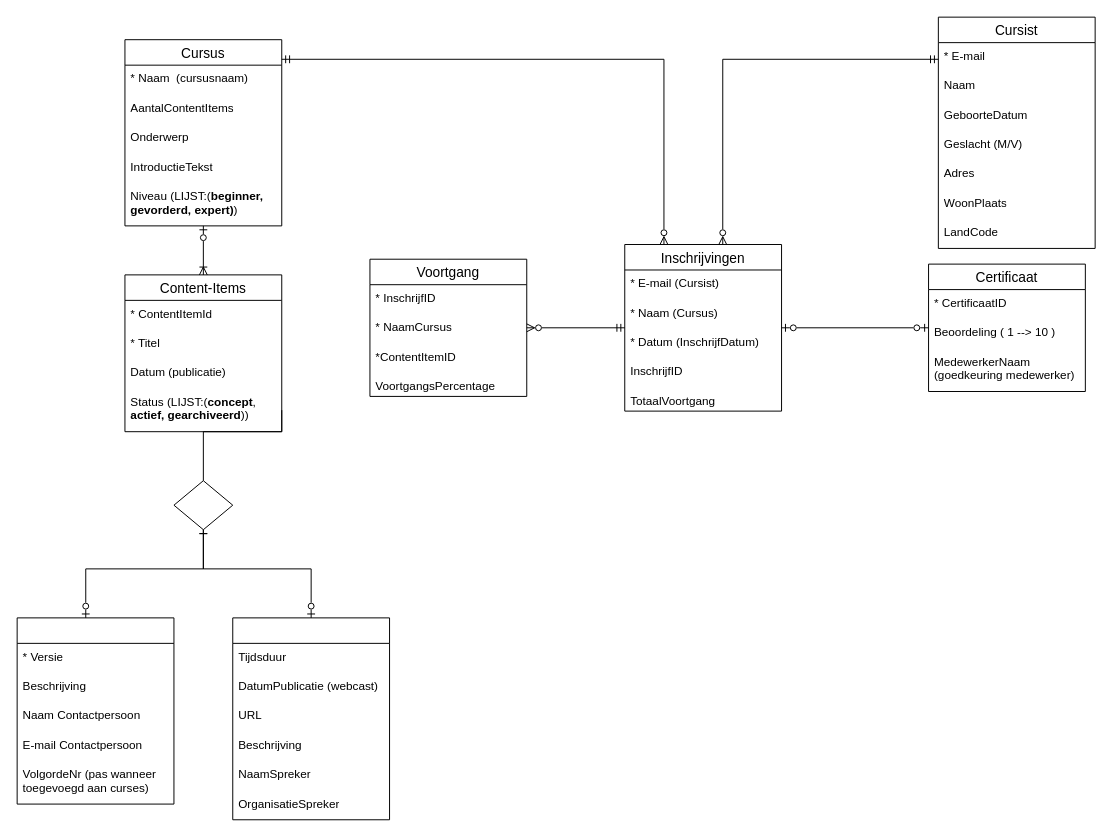
The diagram is 1112 pixels wide and 840 high, and some of its shapes have lost their labels. The box of each missing label's shape, as (x1, y1, x2, y2) in pixels:
Is een: (173, 480, 233, 530)
Module: (16, 617, 174, 804)
Webcasts: (232, 617, 390, 820)
